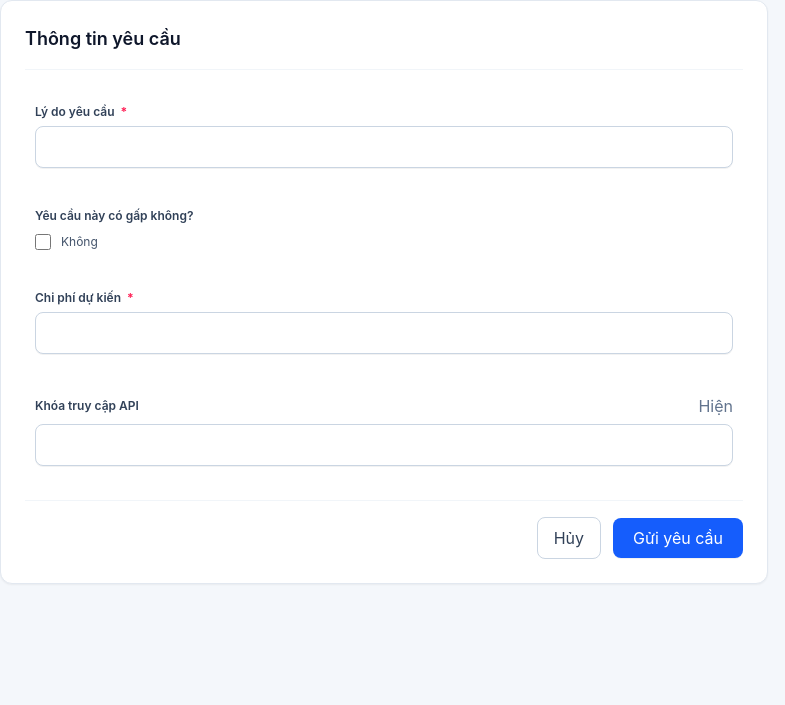
Test: DynamicTicketForm Component › dynamically shows and hides conditional fields based on expression evaluation
Expected: the field labelled "Lý do yêu cầu gấp" is not shown
# Toggle isUrgent to true
Click the checkbox with test id "field-input-isUrgent": [43, 242] box [35, 234, 51, 250]
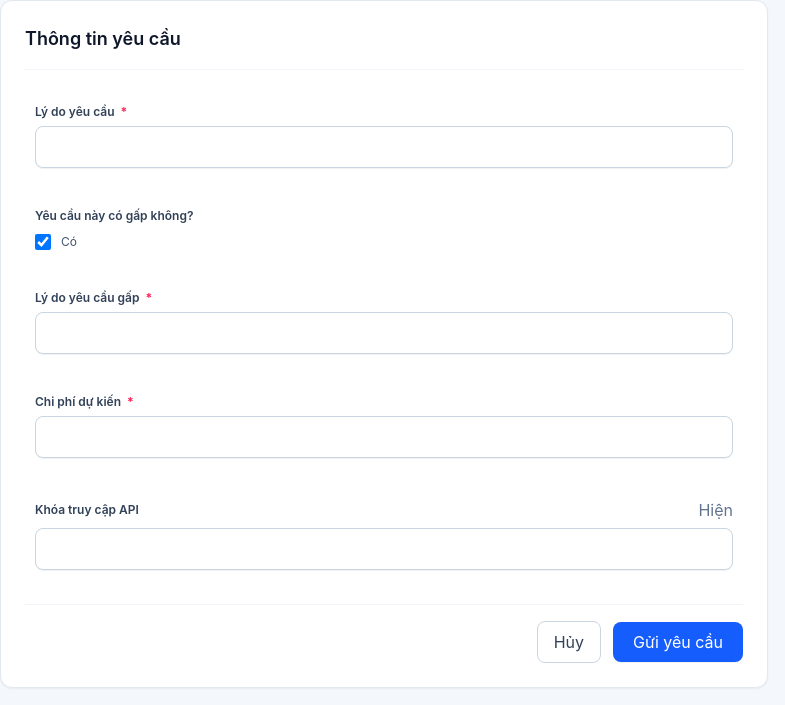
Expected: the field labelled "Lý do yêu cầu gấp *" is shown, [35, 312, 733, 354]
# Toggle back to false
Click the checkbox with test id "field-input-isUrgent": [43, 242] box [35, 234, 51, 250]
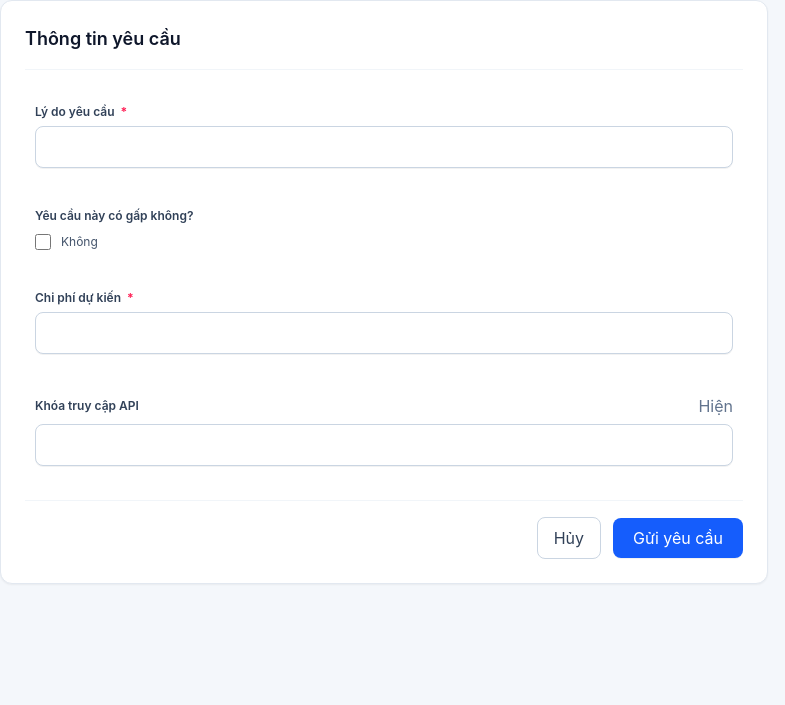
Now the text labelled "Lý do yêu cầu gấp" is gone
